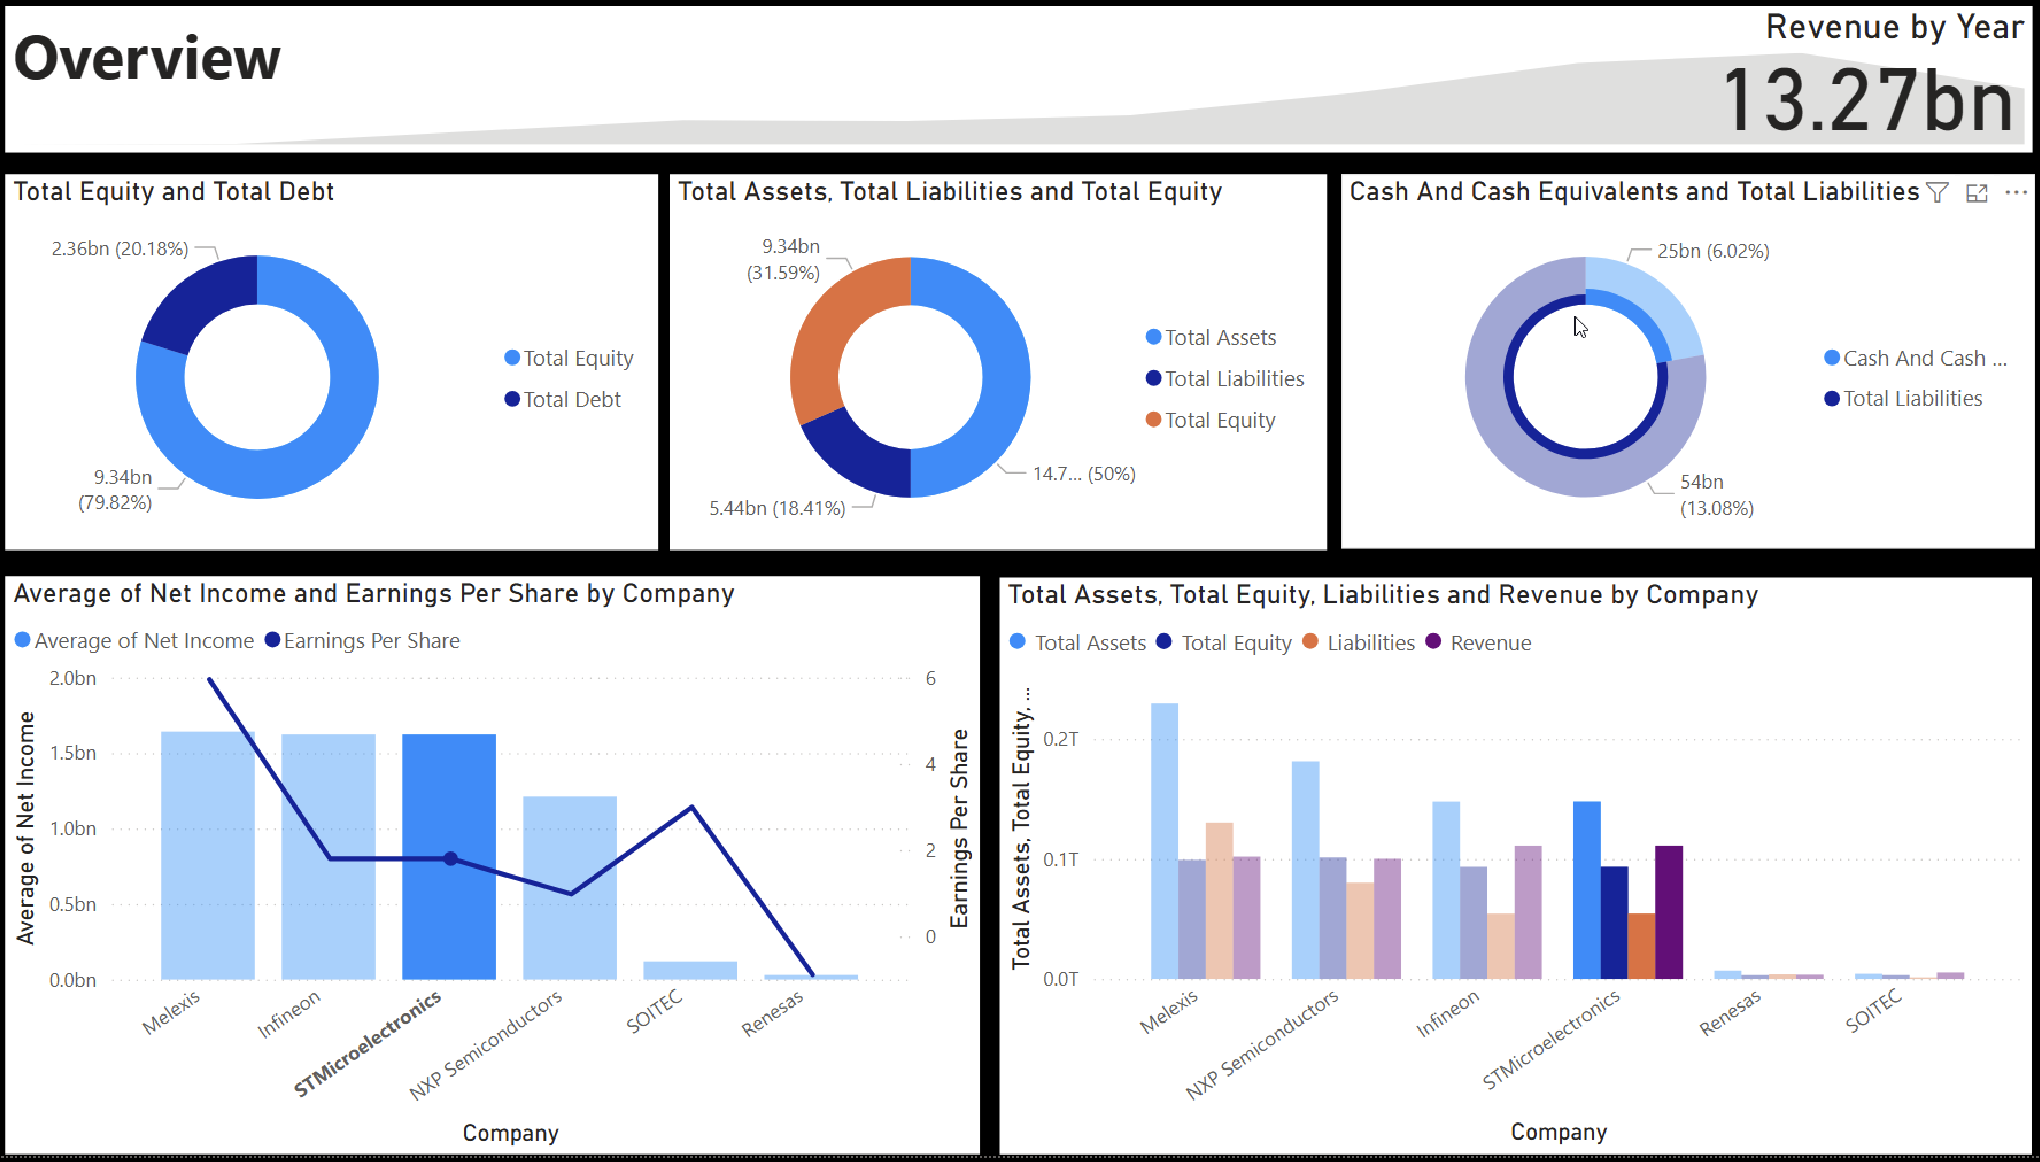

The page's visual inventory and layout, read from the dashboard file:
{"tool":"powerbi","page":{"name":"Overview","canvas":[1280,720],"ordinal":0},"visuals":[{"type":"kpi","fields":{"Indicator":["Avg(Copy of ready_cleaned_data.Revenue)"],"TrendLine":["Copy of ready_cleaned_data.Year"]},"box":[14.9,10.4,1251.5,90.7],"z":0},{"type":"textbox","box":[14.9,10.4,625.8,90.7],"z":1000},{"type":"lineClusteredColumnComboChart","fields":{"Category":["Copy of ready_cleaned_data.Company"],"Y":["Avg(Copy of ready_cleaned_data.Net Income)"],"Y2":["Avg(Copy of ready_cleaned_data.Basic EPS)"]},"box":[14.9,362.7,602,356.7],"z":2000},{"type":"clusteredColumnChart","fields":{"Category":["Copy of ready_cleaned_data.Company"],"Y":["Sum(Copy of ready_cleaned_data.Total Assets)","Sum(Copy of ready_cleaned_data.Total Equity)","Sum(Copy of ready_cleaned_data.Total Liabilities)","Sum(Copy of ready_cleaned_data.Revenue)"]},"box":[629.3,363.2,636.8,355.7],"z":3000},{"type":"donutChart","fields":{"Y":["Avg(Copy of ready_cleaned_data.Total Equity)","Avg(Copy of ready_cleaned_data.Total Debt)"]},"box":[14.9,114.5,402.8,231.9],"z":4000},{"type":"donutChart","fields":{"Y":["Avg(Copy of ready_cleaned_data.Total Assets)","Avg(Copy of ready_cleaned_data.Total Liabilities)","Avg(Copy of ready_cleaned_data.Total Equity)"]},"box":[425.1,114.5,405.8,231.9],"z":5000},{"type":"donutChart","fields":{"Y":["Sum(Copy of ready_cleaned_data.Cash And Cash Equivalents)","Sum(Copy of ready_cleaned_data.Total Liabilities)"]},"box":[839.5,114.4,427.9,231.3],"z":5001}]}

Visuals, with their boxes in screenshot pixels (x1, y1, x2, y2), scaled from the page's 1280x720 canvas onto the 2040x1162 screenshot:
kpi - Avg(Copy of ready_cleaned_data.Revenue) x Copy of ready_cleaned_data.Year: 24:17:2018:163
textbox: 24:17:1021:163
lineClusteredColumnComboChart - Copy of ready_cleaned_data.Company x Avg(Copy of ready_cleaned_data.Net Income): 24:585:983:1161
clusteredColumnChart - Copy of ready_cleaned_data.Company x Sum(Copy of ready_cleaned_data.Total Assets): 1003:586:2018:1160
donutChart - Avg(Copy of ready_cleaned_data.Total Equity) x Avg(Copy of ready_cleaned_data.Total Debt): 24:185:666:559
donutChart - Avg(Copy of ready_cleaned_data.Total Assets) x Avg(Copy of ready_cleaned_data.Total Liabilities): 678:185:1324:559
donutChart - Sum(Copy of ready_cleaned_data.Cash And Cash Equivalents) x Sum(Copy of ready_cleaned_data.Total Liabilities): 1338:185:2020:558
